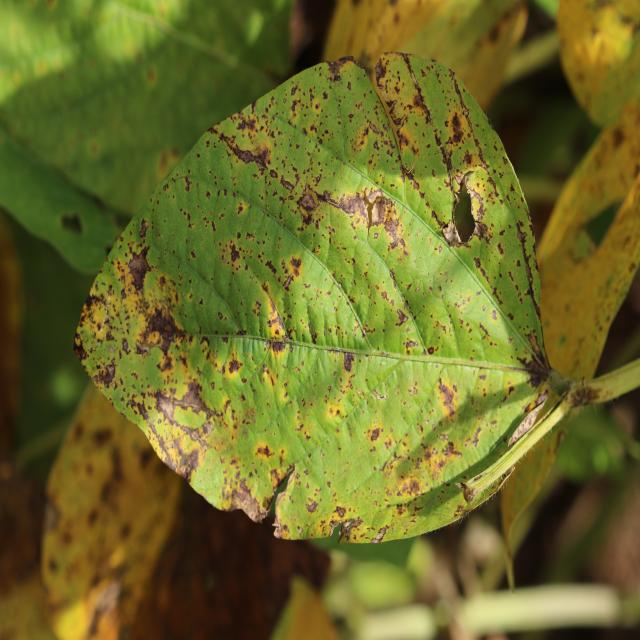Bacterial_Blight: (327, 176, 420, 263), (578, 5, 636, 72), (592, 249, 635, 322), (459, 462, 517, 516), (77, 288, 116, 352), (153, 380, 209, 423), (139, 301, 186, 351), (216, 131, 269, 173), (507, 395, 548, 449), (350, 115, 394, 162), (227, 478, 267, 523), (486, 3, 523, 48), (404, 71, 434, 126), (516, 350, 555, 391), (263, 294, 289, 341), (155, 146, 184, 186), (126, 247, 151, 291), (565, 381, 595, 410), (436, 378, 457, 414), (571, 227, 593, 261), (447, 111, 466, 144), (61, 212, 84, 235), (338, 518, 359, 541), (326, 59, 345, 84), (73, 333, 88, 361), (299, 191, 318, 212), (326, 400, 345, 421), (374, 58, 388, 86), (239, 115, 258, 135), (460, 482, 476, 504), (369, 525, 388, 543), (469, 426, 483, 448), (612, 127, 626, 148), (342, 351, 355, 373), (228, 242, 241, 263), (228, 358, 243, 375), (516, 226, 528, 246), (256, 444, 273, 458), (136, 400, 149, 418), (396, 308, 409, 325), (138, 218, 149, 237), (265, 259, 277, 276), (146, 67, 157, 85), (371, 389, 387, 401), (305, 499, 318, 513), (369, 427, 381, 441), (291, 256, 302, 271), (334, 505, 346, 518), (558, 333, 567, 347), (407, 386, 418, 396), (427, 346, 435, 355), (205, 190, 211, 200), (491, 310, 497, 320), (217, 311, 223, 320)
Soybean: (75, 53, 640, 543)
